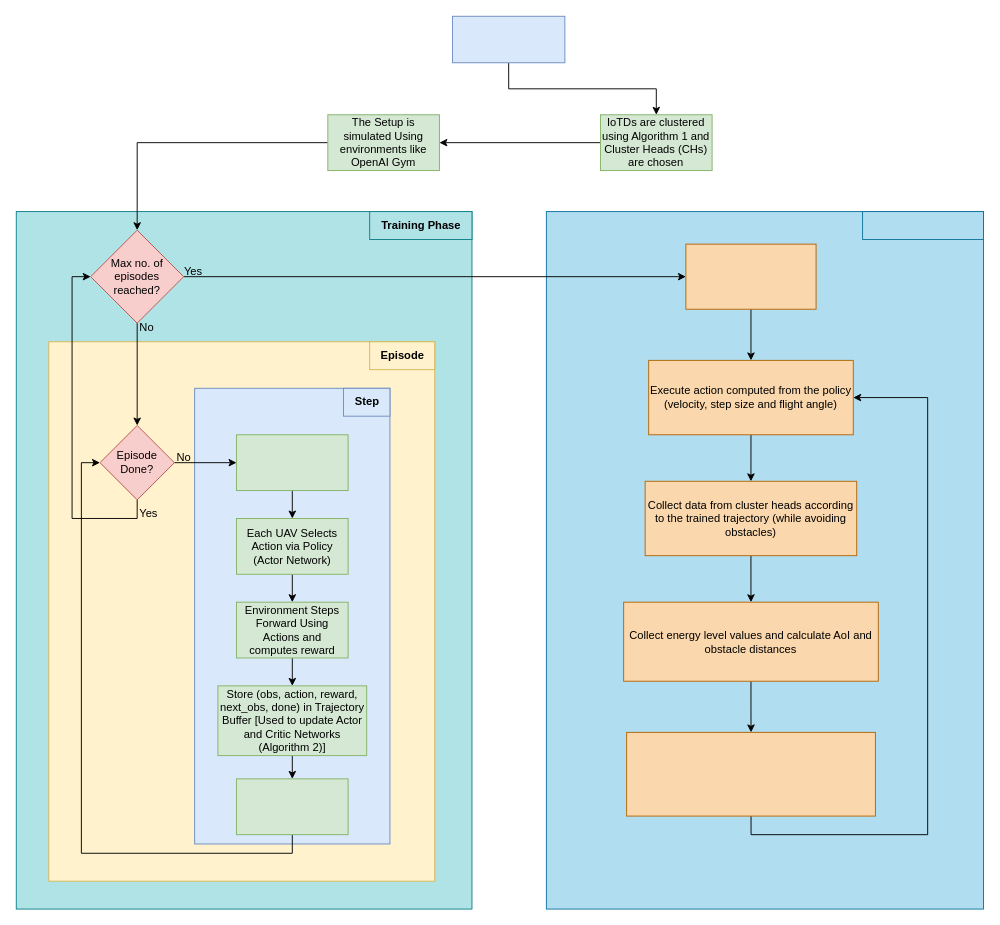
Image size: 1000x925. Some labels were removed from this diagram. Each missing label, with the centre of its shape:
"Compute action using onboard trained policy neural network." goes at point (750, 773).
"Deployment Phase" goes at point (922, 225).
"Initial Setup" goes at point (508, 39).
"Initialize UAV Systems and Load Trained Policy (Actor Network)" goes at point (750, 276).
"Reset all state values (position, energy level, AOI, coverage state of CH)" goes at point (292, 462).
"Update UAV States" goes at point (292, 806).
